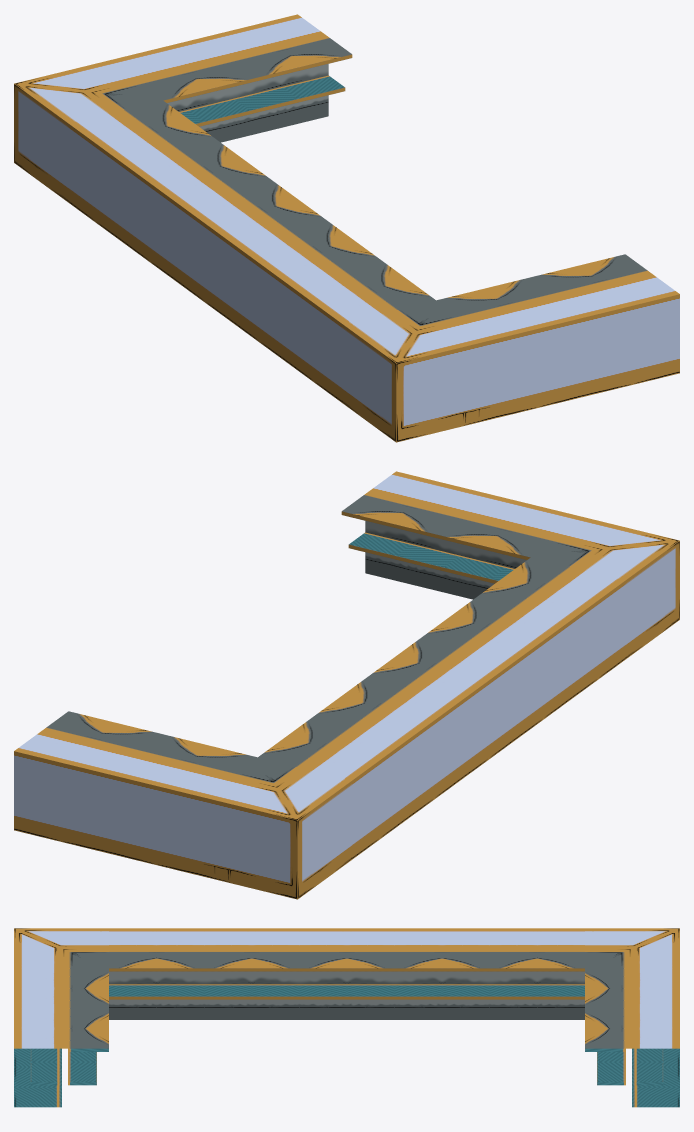
Rendered from diamond_display_desk_2.fbx.
3 renders of one model, top to bottom at view 1: azimuth 30°, elevation 25°; view 2: azimuth 150°, elevation 25°; view 3: azimuth 270°, elevation 25°, orthographic. The views are drawn at different scales.
Parts seen in each view (by area): view 1: diamond_display_desk_2; view 2: diamond_display_desk_2; view 3: diamond_display_desk_2.
Boxes of the visible parts, bbox=[...] form: diamond_display_desk_2: bbox=[14, 14, 679, 442]; diamond_display_desk_2: bbox=[14, 471, 679, 899]; diamond_display_desk_2: bbox=[14, 928, 679, 1107].
Size of the model in its own units: 3 by 0.8 by 7.
